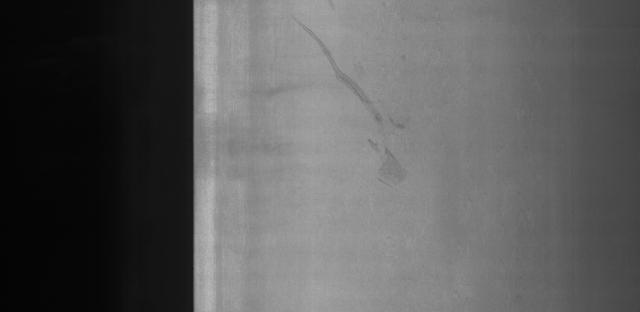water_spot: (294, 16, 438, 195)
